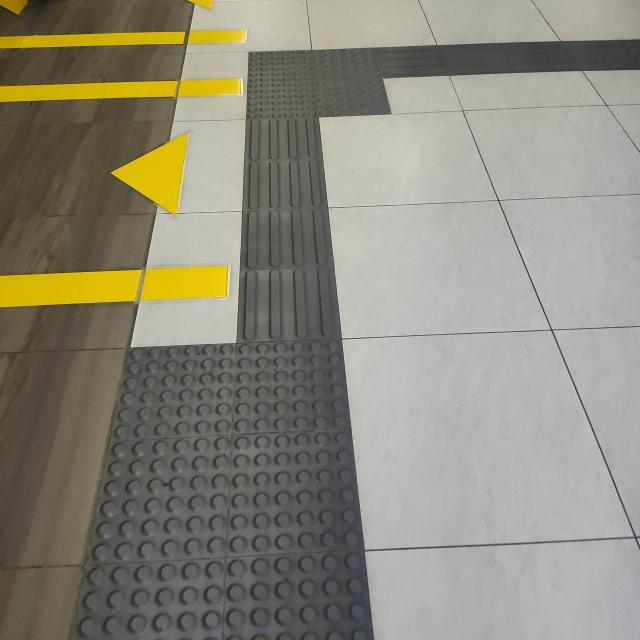kanan: (195, 11, 499, 150)
